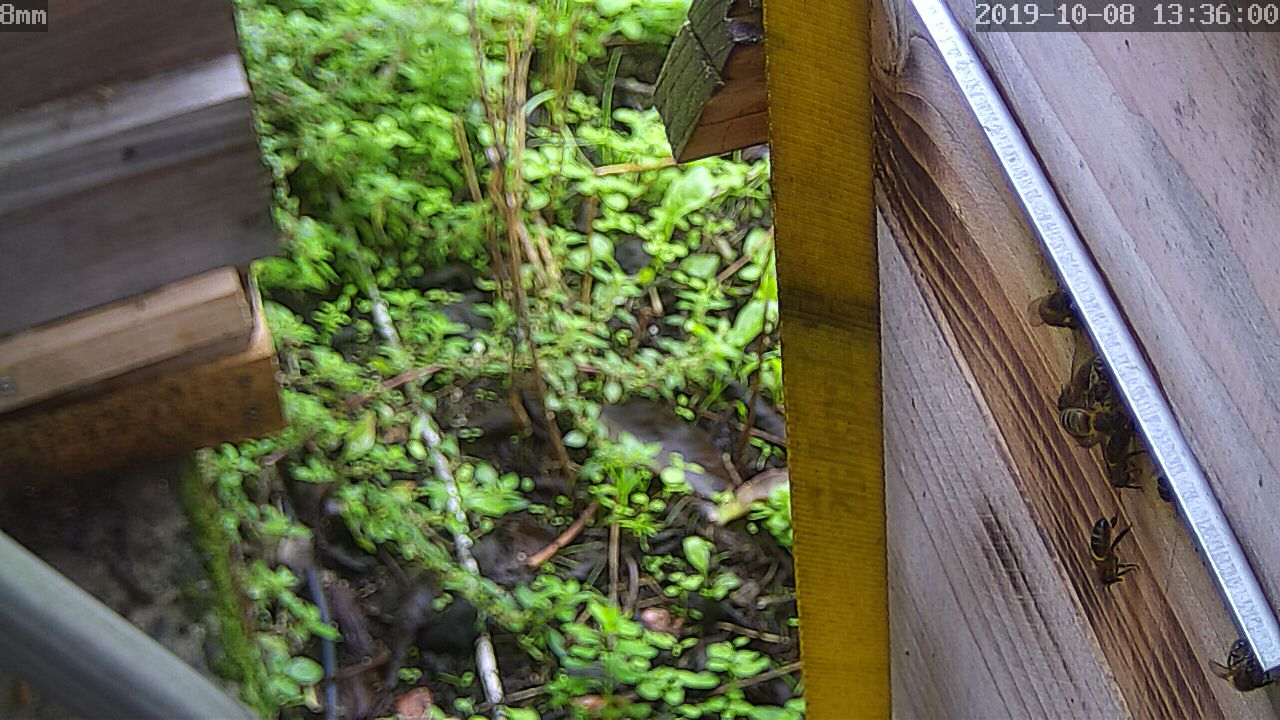bee: (1056, 356, 1131, 442), (1066, 395, 1135, 485), (1075, 507, 1128, 595), (1028, 278, 1088, 345), (1206, 641, 1266, 698)
